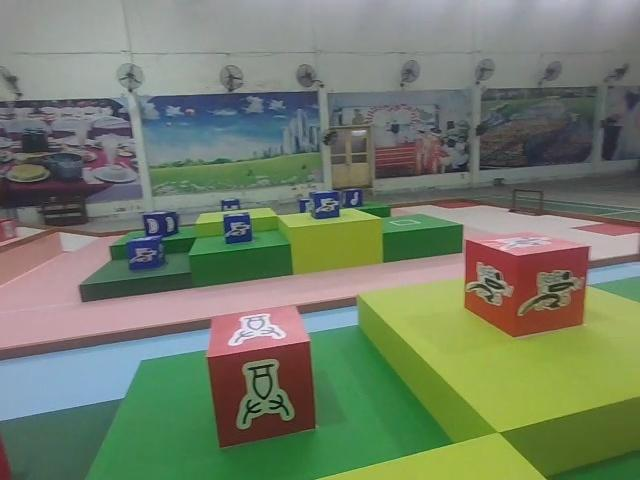R1: (460, 226, 593, 339)
R2 Real: (201, 302, 321, 451)
